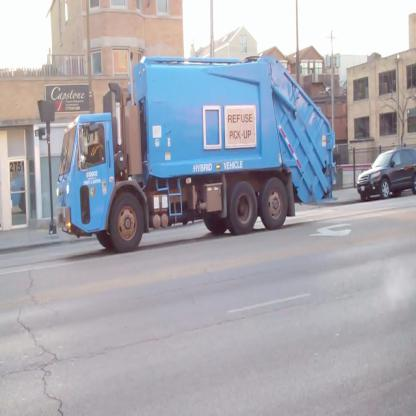Car: (356, 136, 412, 196)
Truck: (53, 48, 347, 246)
